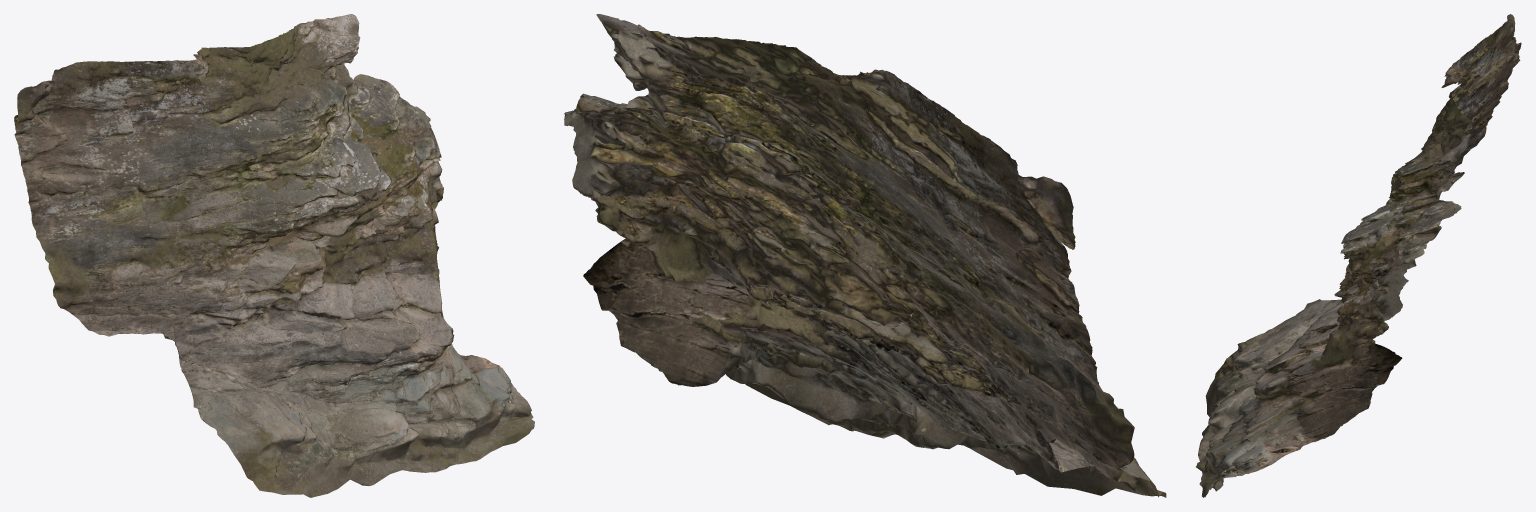
The model's file is cliff.glb.
The picture shows the model from 3 angles, left to right: view 1: azimuth 30°, elevation 25°; view 2: azimuth 150°, elevation 25°; view 3: azimuth 270°, elevation 25°; orthographic projection. The views are drawn at different scales.
Parts seen in each view (by area): view 1: rock_face_02; view 2: rock_face_02; view 3: rock_face_02.
Boxes of the visible parts, bbox=[...] form: rock_face_02: bbox=[14, 14, 534, 497]; rock_face_02: bbox=[564, 14, 1166, 497]; rock_face_02: bbox=[1196, 14, 1521, 497].
Bounding box in the file's own units: 5 × 4.56 × 3.92.
1 material, 1 textured.
